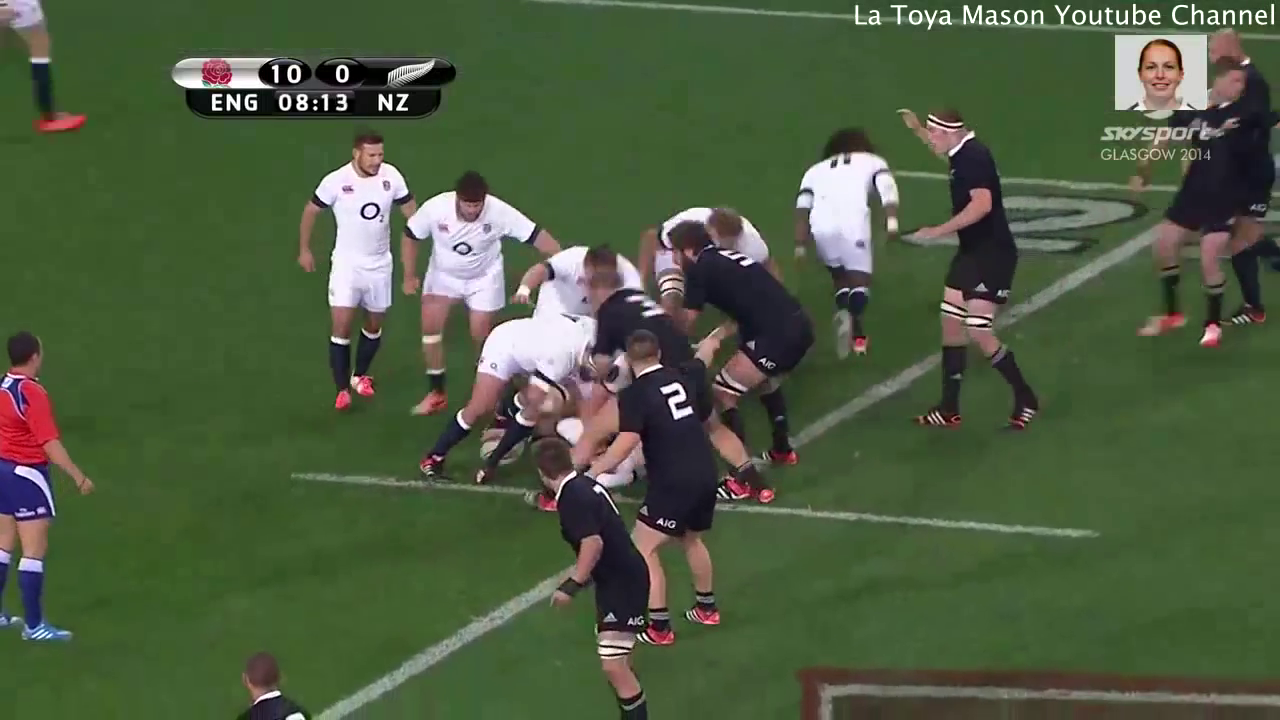player: (885, 102, 1055, 444), (664, 218, 817, 510), (514, 433, 666, 720), (408, 165, 564, 417), (291, 126, 422, 410), (613, 328, 725, 640), (413, 309, 595, 489), (1, 330, 103, 647), (782, 120, 913, 362), (1133, 165, 1256, 346)
ruck: (409, 205, 817, 510)
